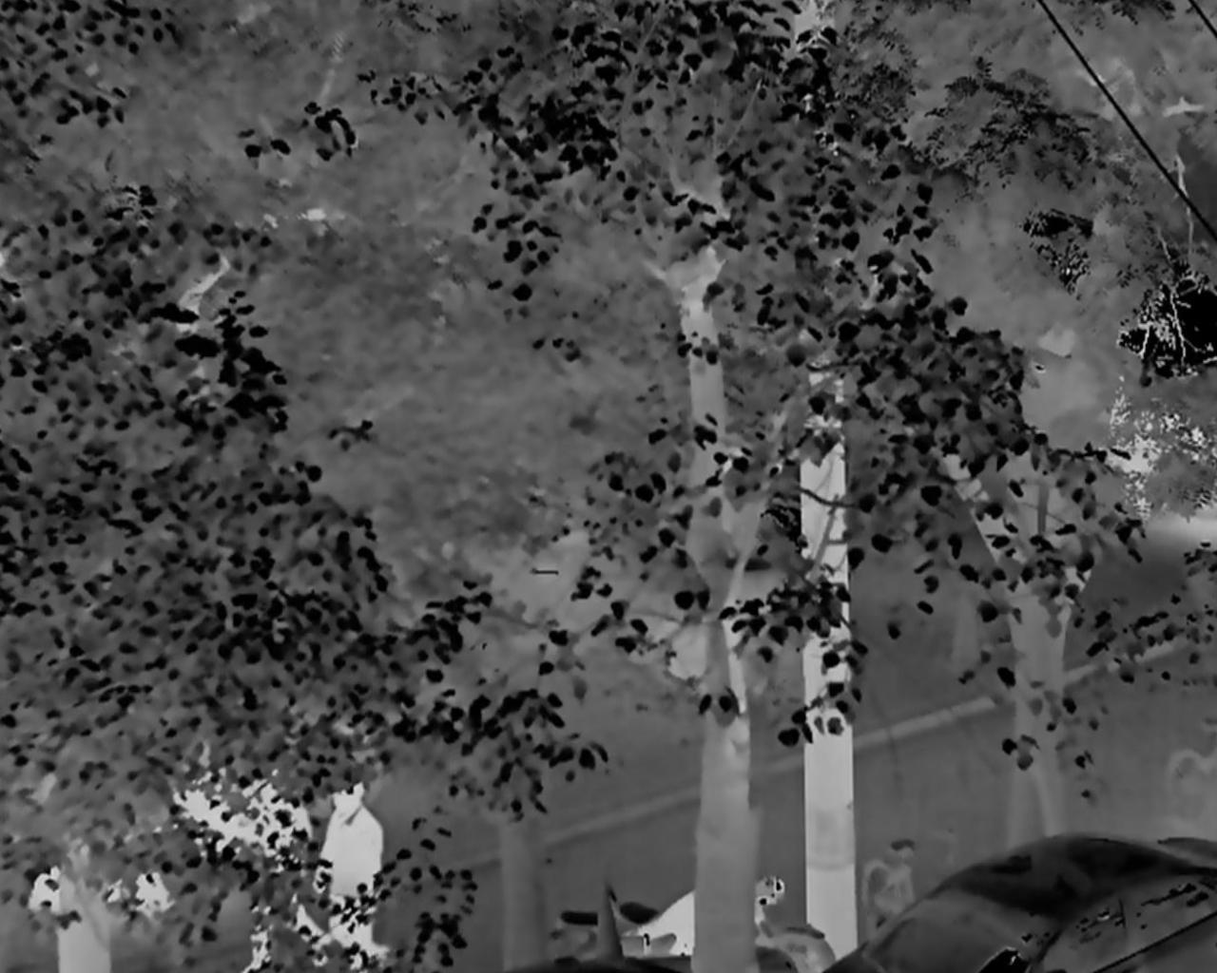person: (240, 773, 326, 973), (313, 776, 391, 973)
